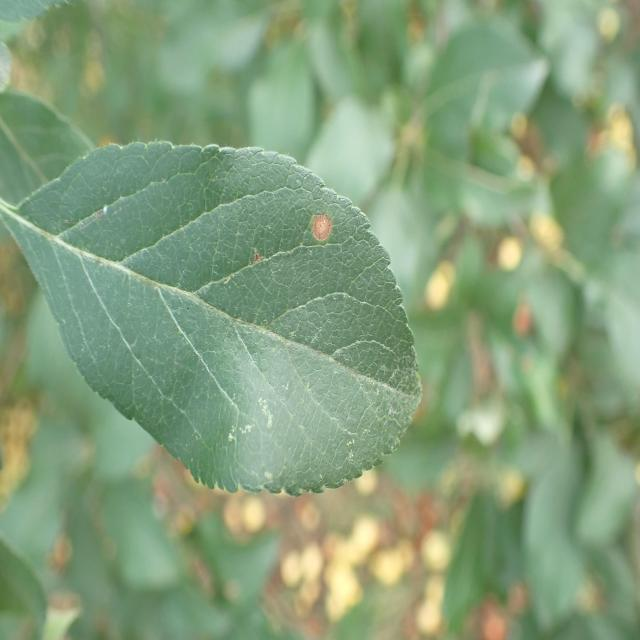frog-eye-leaf-spot: (2, 141, 424, 497)
